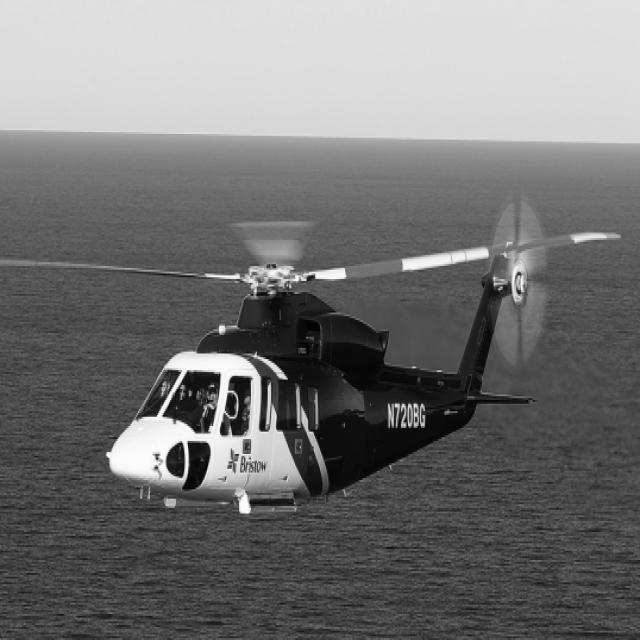helicopter: (1, 210, 623, 519)
